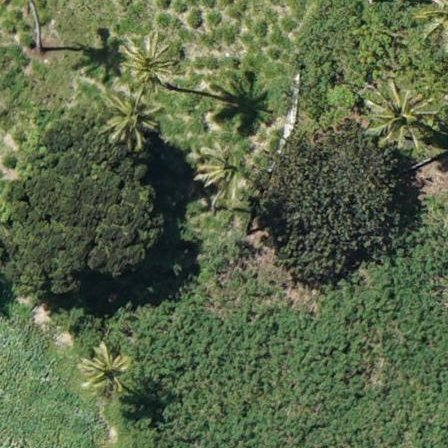palm_tree: (362, 77, 432, 152), (97, 90, 158, 154), (119, 32, 178, 95), (74, 340, 131, 402), (197, 136, 254, 196)
